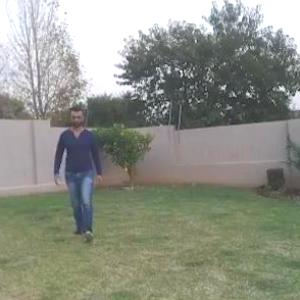follow: (62, 109, 103, 237)
